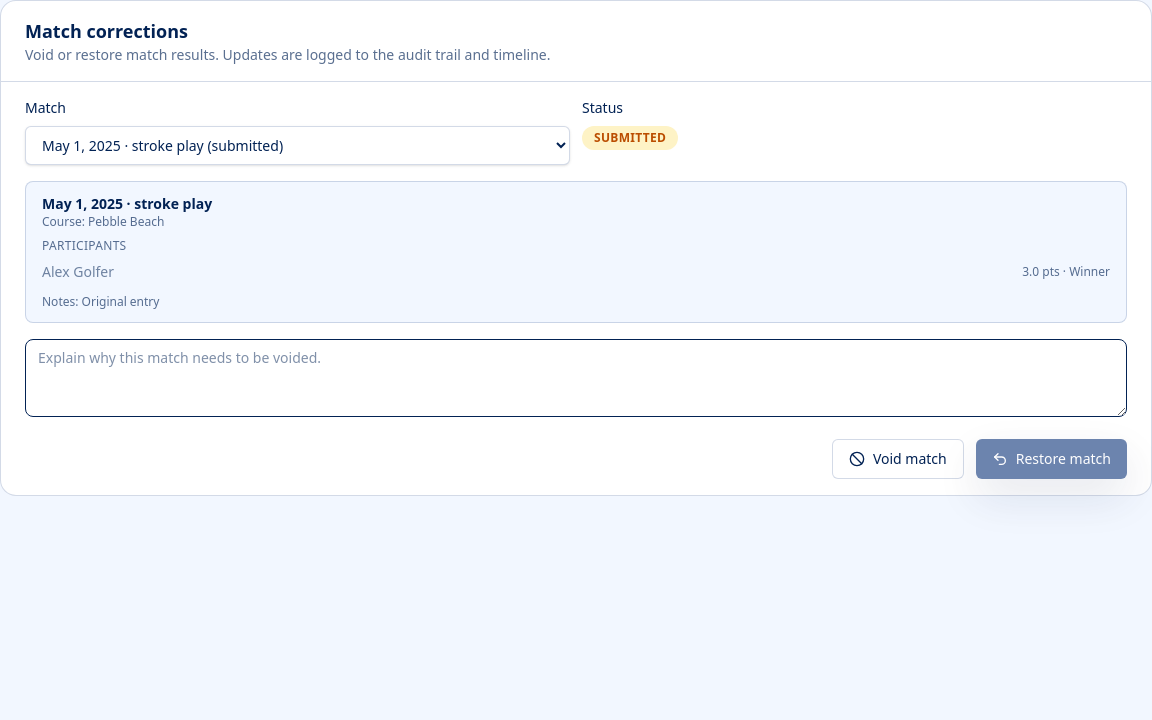
MatchCorrectionsPanel › requires a reason before voiding a match
Click the button "Void match".
click(898, 459)  # box [832,439,964,479]
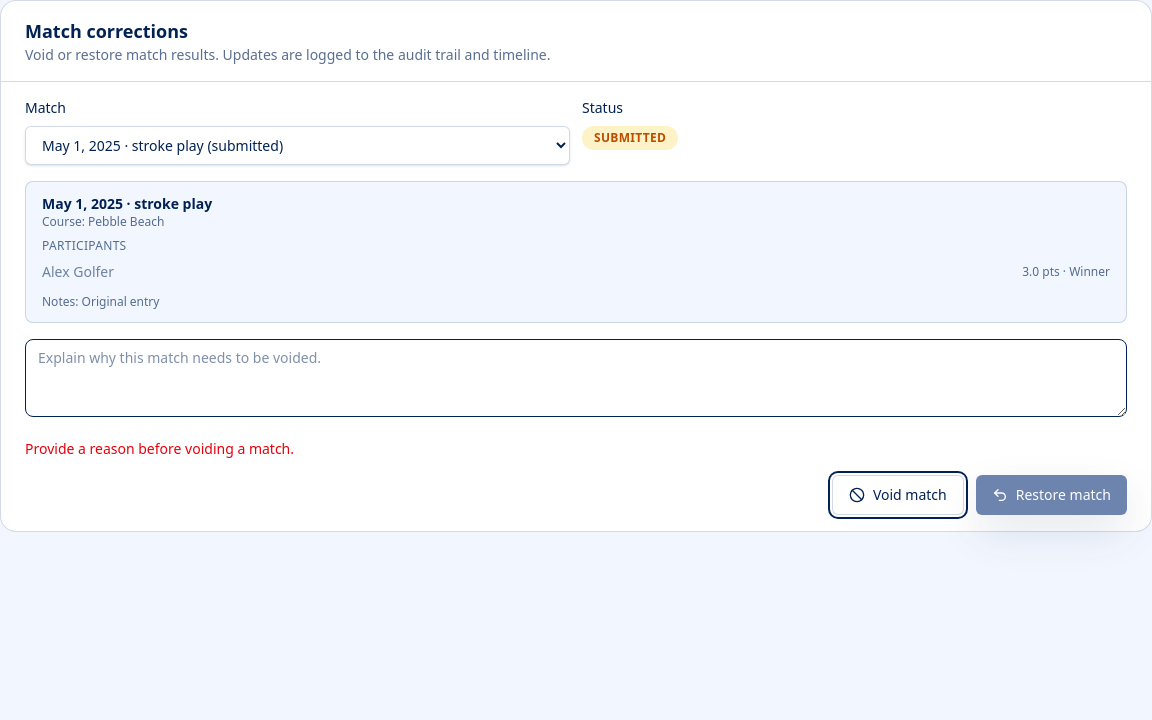
Now the text "Provide a reason before voiding a match." is shown, box [25,439,294,458]
